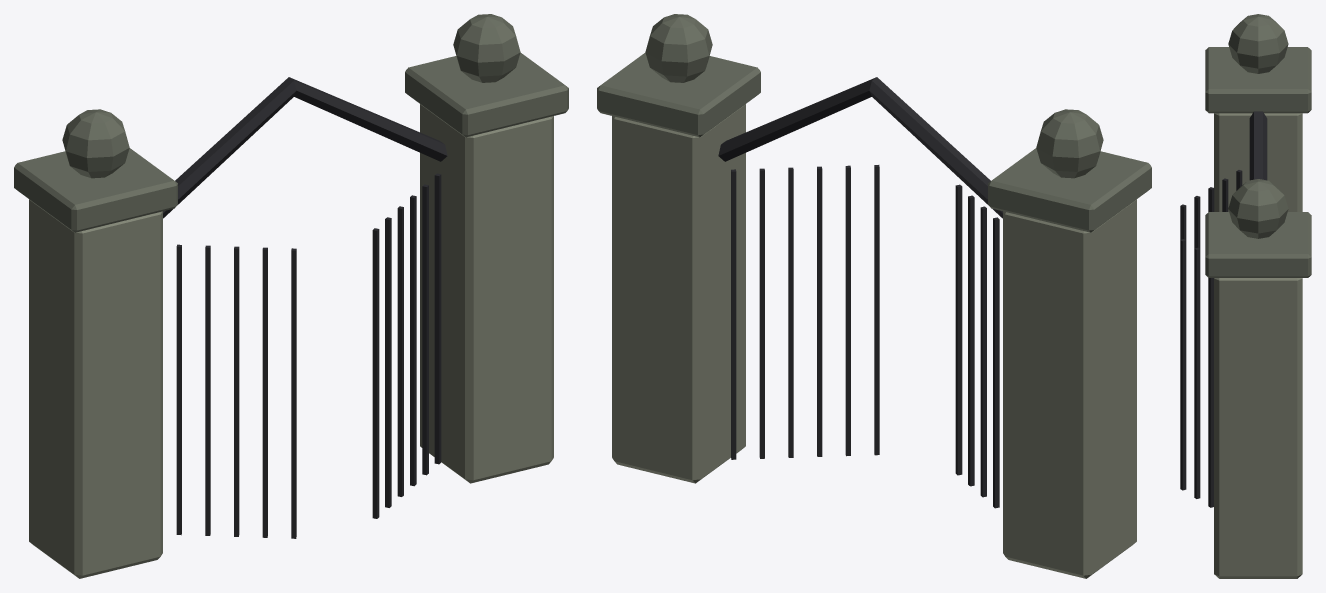
The model's file is Grave_Gate.fbx.
The picture shows the model from 3 angles, left to right: view 1: azimuth 30°, elevation 25°; view 2: azimuth 150°, elevation 25°; view 3: azimuth 270°, elevation 25°; orthographic projection. The views are drawn at different scales.
Visible parts, largest first — view 1: Grave_Gate.001; view 2: Grave_Gate.001; view 3: Grave_Gate.001.
Part boxes in pixels (bbox=[...]): Grave_Gate.001: bbox=[14, 14, 568, 578]; Grave_Gate.001: bbox=[597, 14, 1151, 578]; Grave_Gate.001: bbox=[1180, 14, 1311, 578].
Bounding box in the file's own units: 2.8 × 2.37 × 0.7402.
